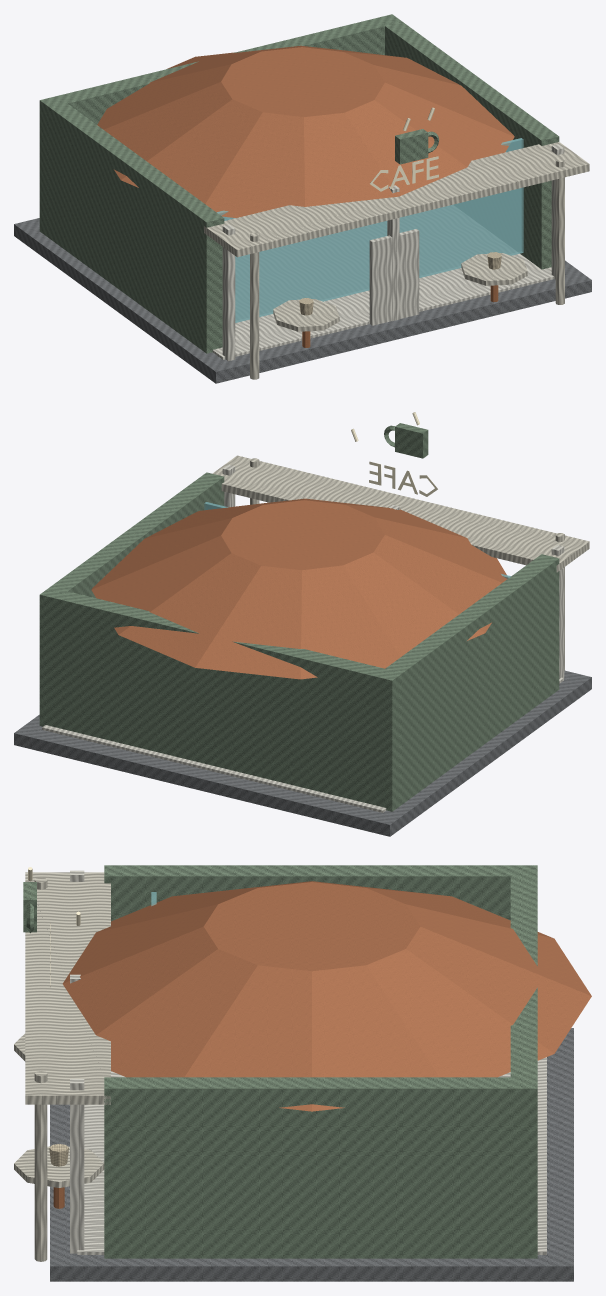
The model's file is storefront_cafe.glb.
3 views of the same model, one above another, from view 1: azimuth 30°, elevation 25°; view 2: azimuth 150°, elevation 25°; view 3: azimuth 270°, elevation 25° (orthographic). The views are drawn at different scales.
Visible parts, largest first — view 1: round_roof, side_wall, window_back, foundation, pergola, side_wall.001, rear_wall, floor, door, front_post, table, table.001 (+6 smaller); view 2: round_roof, rear_wall, side_wall, foundation, pergola, side_wall.001, floor, cup.002, front_post, sign_cafe; view 3: round_roof, side_wall.001, foundation, pergola, side_wall, rear_wall, floor, front_post.002, porch_post.001, table.001.
Part boxes in pixels (<box>): round_roof: <box>97,45,514,217</box>; side_wall: <box>46,101,224,353</box>; window_back: <box>217,138,523,322</box>; foundation: <box>14,218,591,383</box>; pergola: <box>204,142,589,257</box>; side_wall.001: <box>383,20,559,269</box>; rear_wall: <box>39,14,402,238</box>; floor: <box>212,253,554,359</box>; door: <box>369,229,419,325</box>; front_post: <box>222,224,235,361</box>; table: <box>273,299,339,331</box>; table.001: <box>461,253,527,285</box>; round_roof: <box>91,498,507,679</box>; rear_wall: <box>39,589,402,811</box>; side_wall: <box>385,554,559,806</box>; foundation: <box>14,670,591,836</box>; pergola: <box>212,455,589,572</box>; side_wall.001: <box>47,472,224,597</box>; floor: <box>42,677,563,812</box>; cup.002: <box>395,423,428,458</box>; front_post: <box>551,545,564,678</box>; sign_cafe: <box>369,461,437,496</box>; round_roof: <box>62,881,591,1111</box>; side_wall.001: <box>104,1077,519,1258</box>; foundation: <box>50,1028,573,1281</box>; pergola: <box>25,872,110,1104</box>; side_wall: <box>104,865,519,921</box>; rear_wall: <box>510,865,537,1258</box>; floor: <box>77,1057,546,1254</box>; front_post.002: <box>70,1079,84,1253</box>; porch_post.001: <box>34,1071,47,1261</box>; table.001: <box>14,1146,104,1187</box>.
Bounding box in the file's own units: 6.6 × 3.79 × 6.77.
10 materials, 8 textured.
